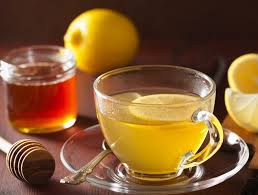Lemon: (58, 7, 149, 76)
